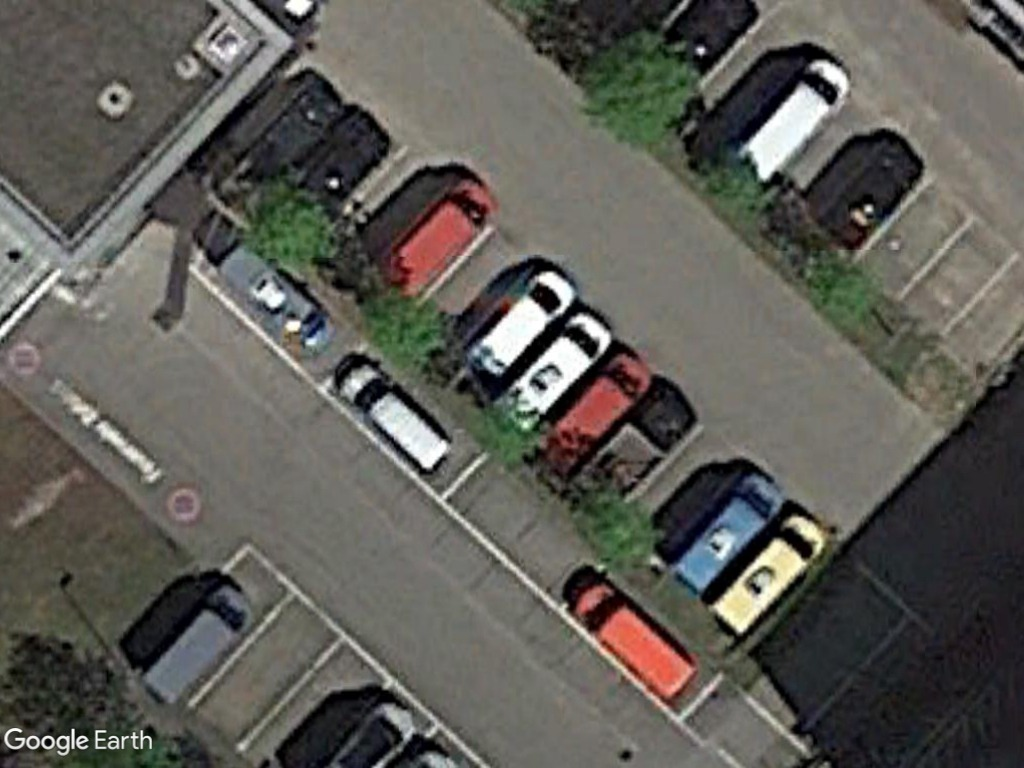van: (733, 55, 861, 186), (566, 578, 701, 702), (136, 581, 261, 714), (705, 510, 833, 639), (666, 473, 791, 597), (535, 353, 656, 477), (493, 310, 615, 431), (380, 179, 501, 297), (335, 357, 453, 475), (465, 267, 580, 380)
